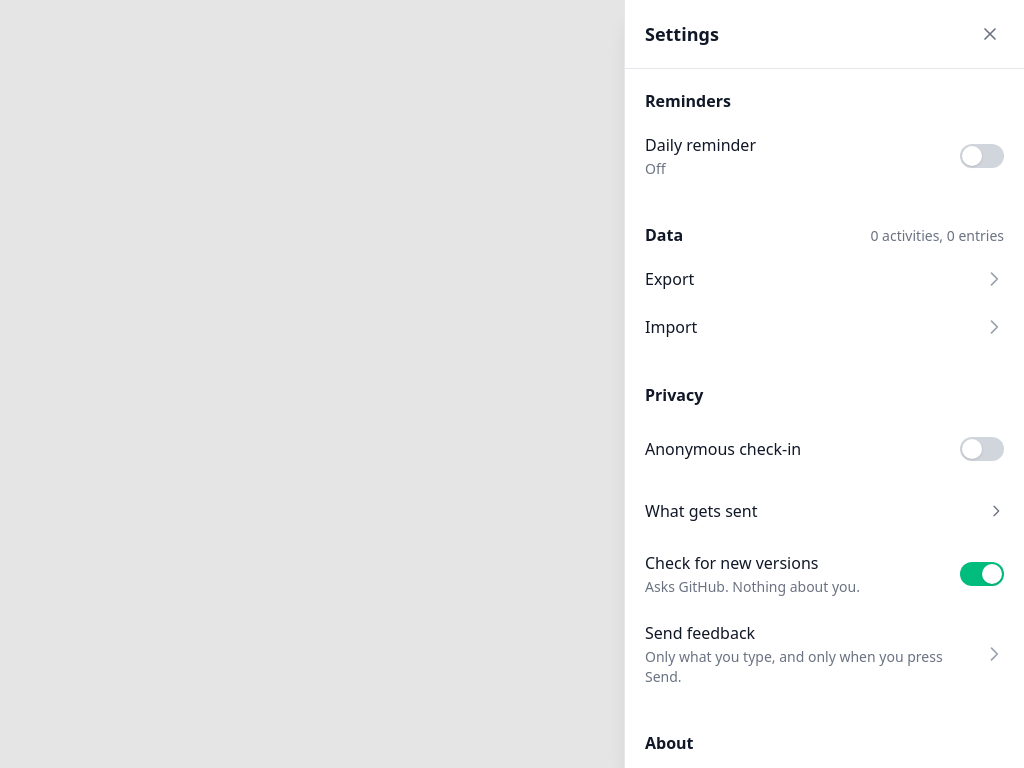
it: the reminder time, and the switch beside it › quotes the phone where it refused
Click the switch with test id "reminder-switch": [982, 156] box top-left (960, 134), bottom-right (1004, 178)
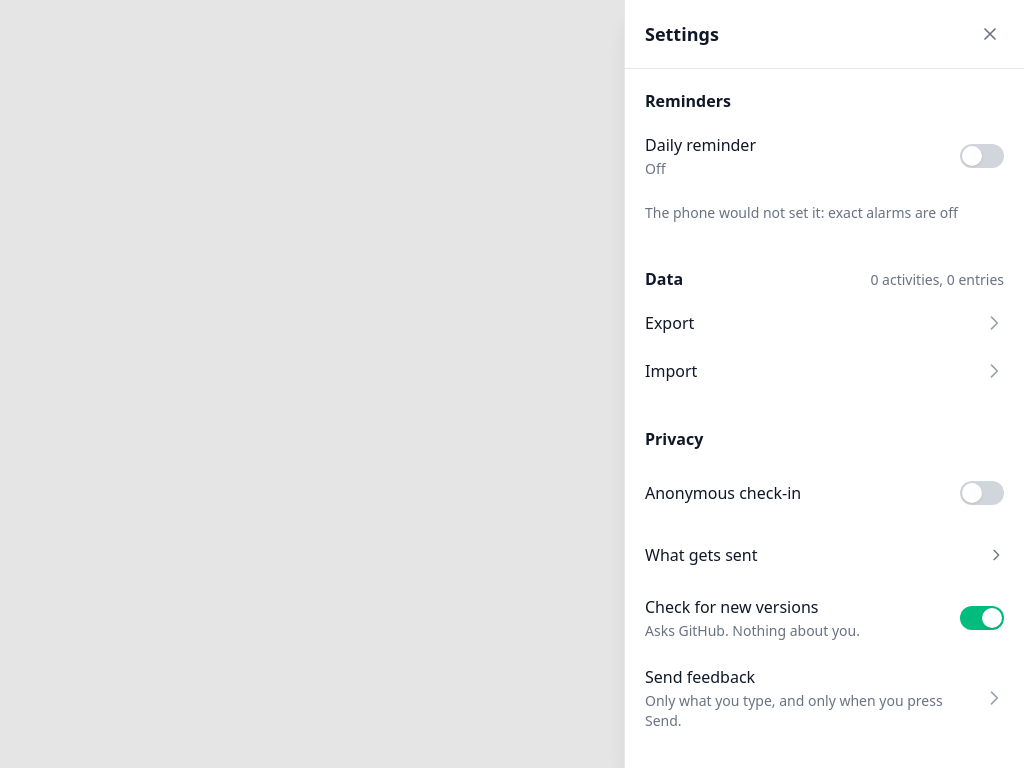
Check: the text "The phone would not set it: exact alarms are off" is shown, box top-left (645, 203), bottom-right (958, 222)
